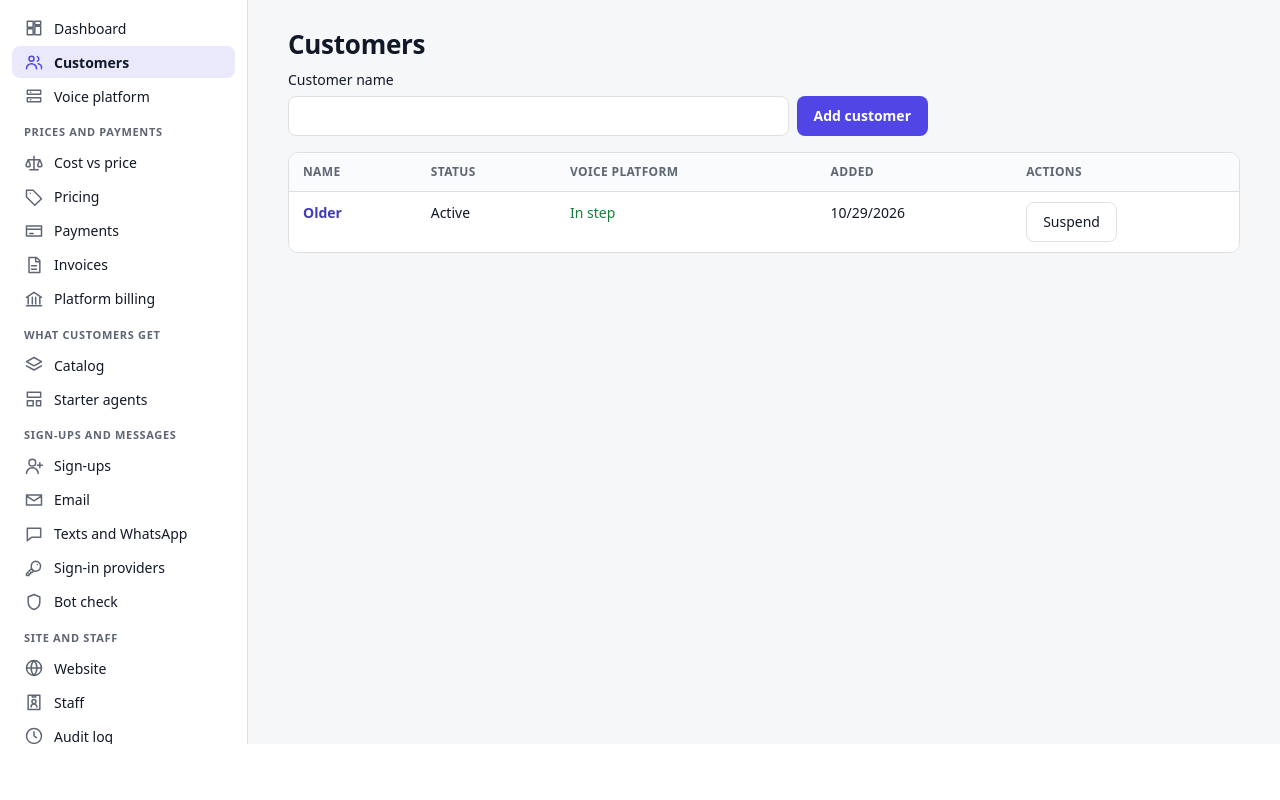
Test: the admin panel › adds a customer and shows it at the top
Expected: the link "Older" is shown, [303, 202, 342, 222]
In the field labelled "Customer name": (538,116) [288, 96, 788, 136], type "Acme Dental"
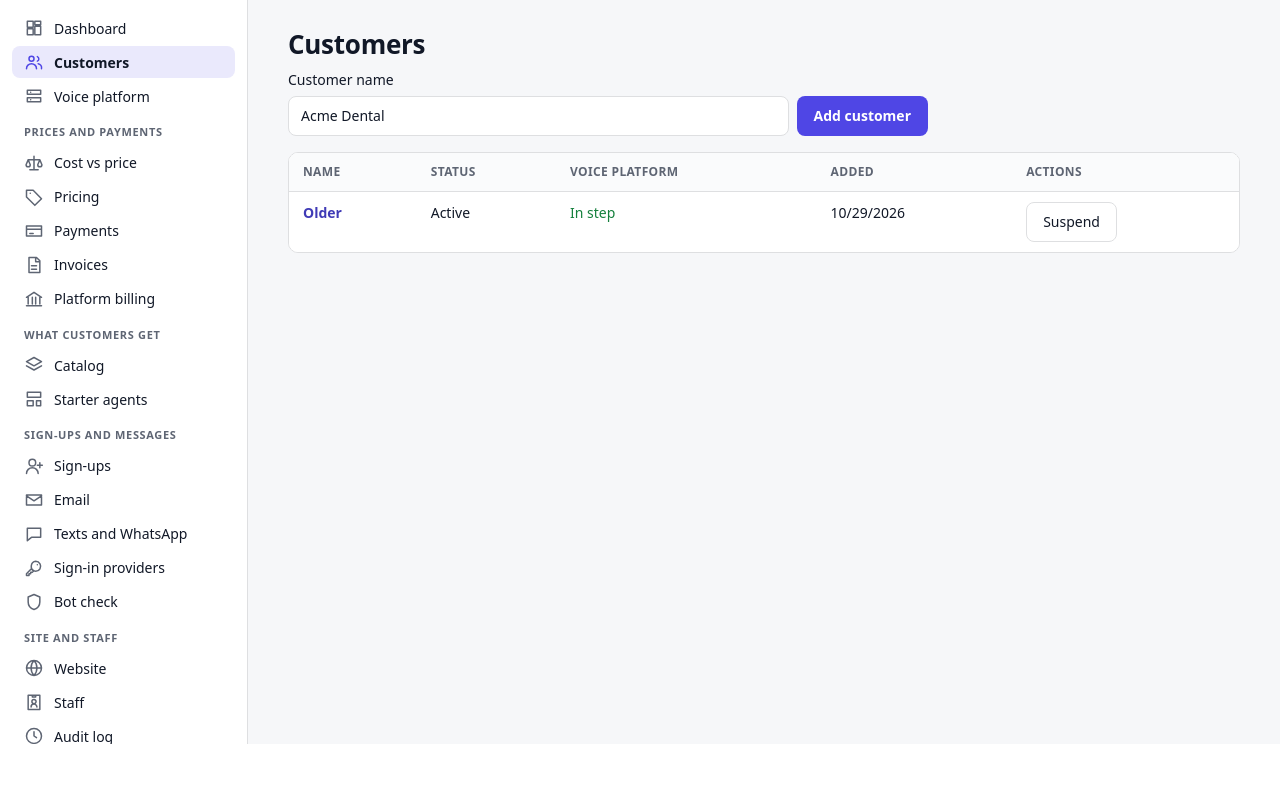
Click the button "Add customer": (862,116) [796, 96, 928, 136]
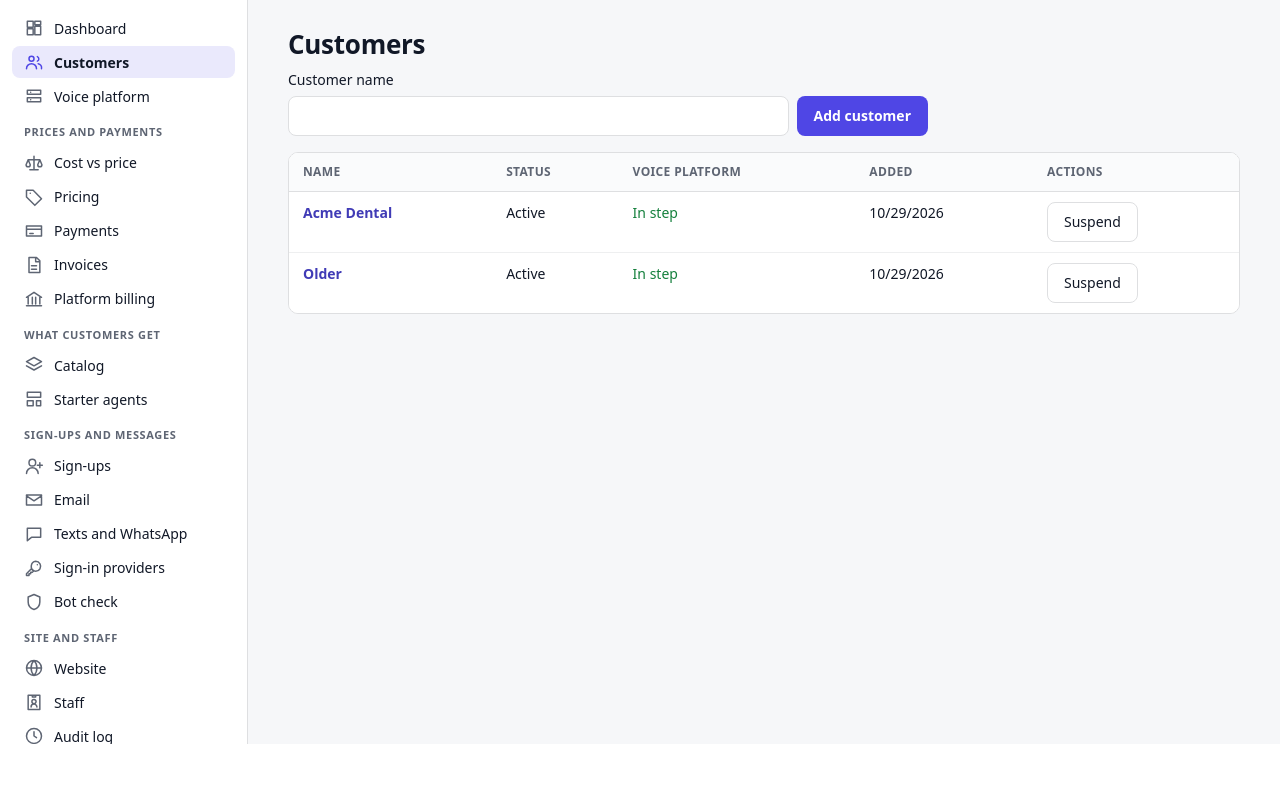
Now the link "Acme Dental" is shown, box [303, 202, 392, 222]
Now the field labelled "Customer name" is empty, box [288, 96, 788, 136]
